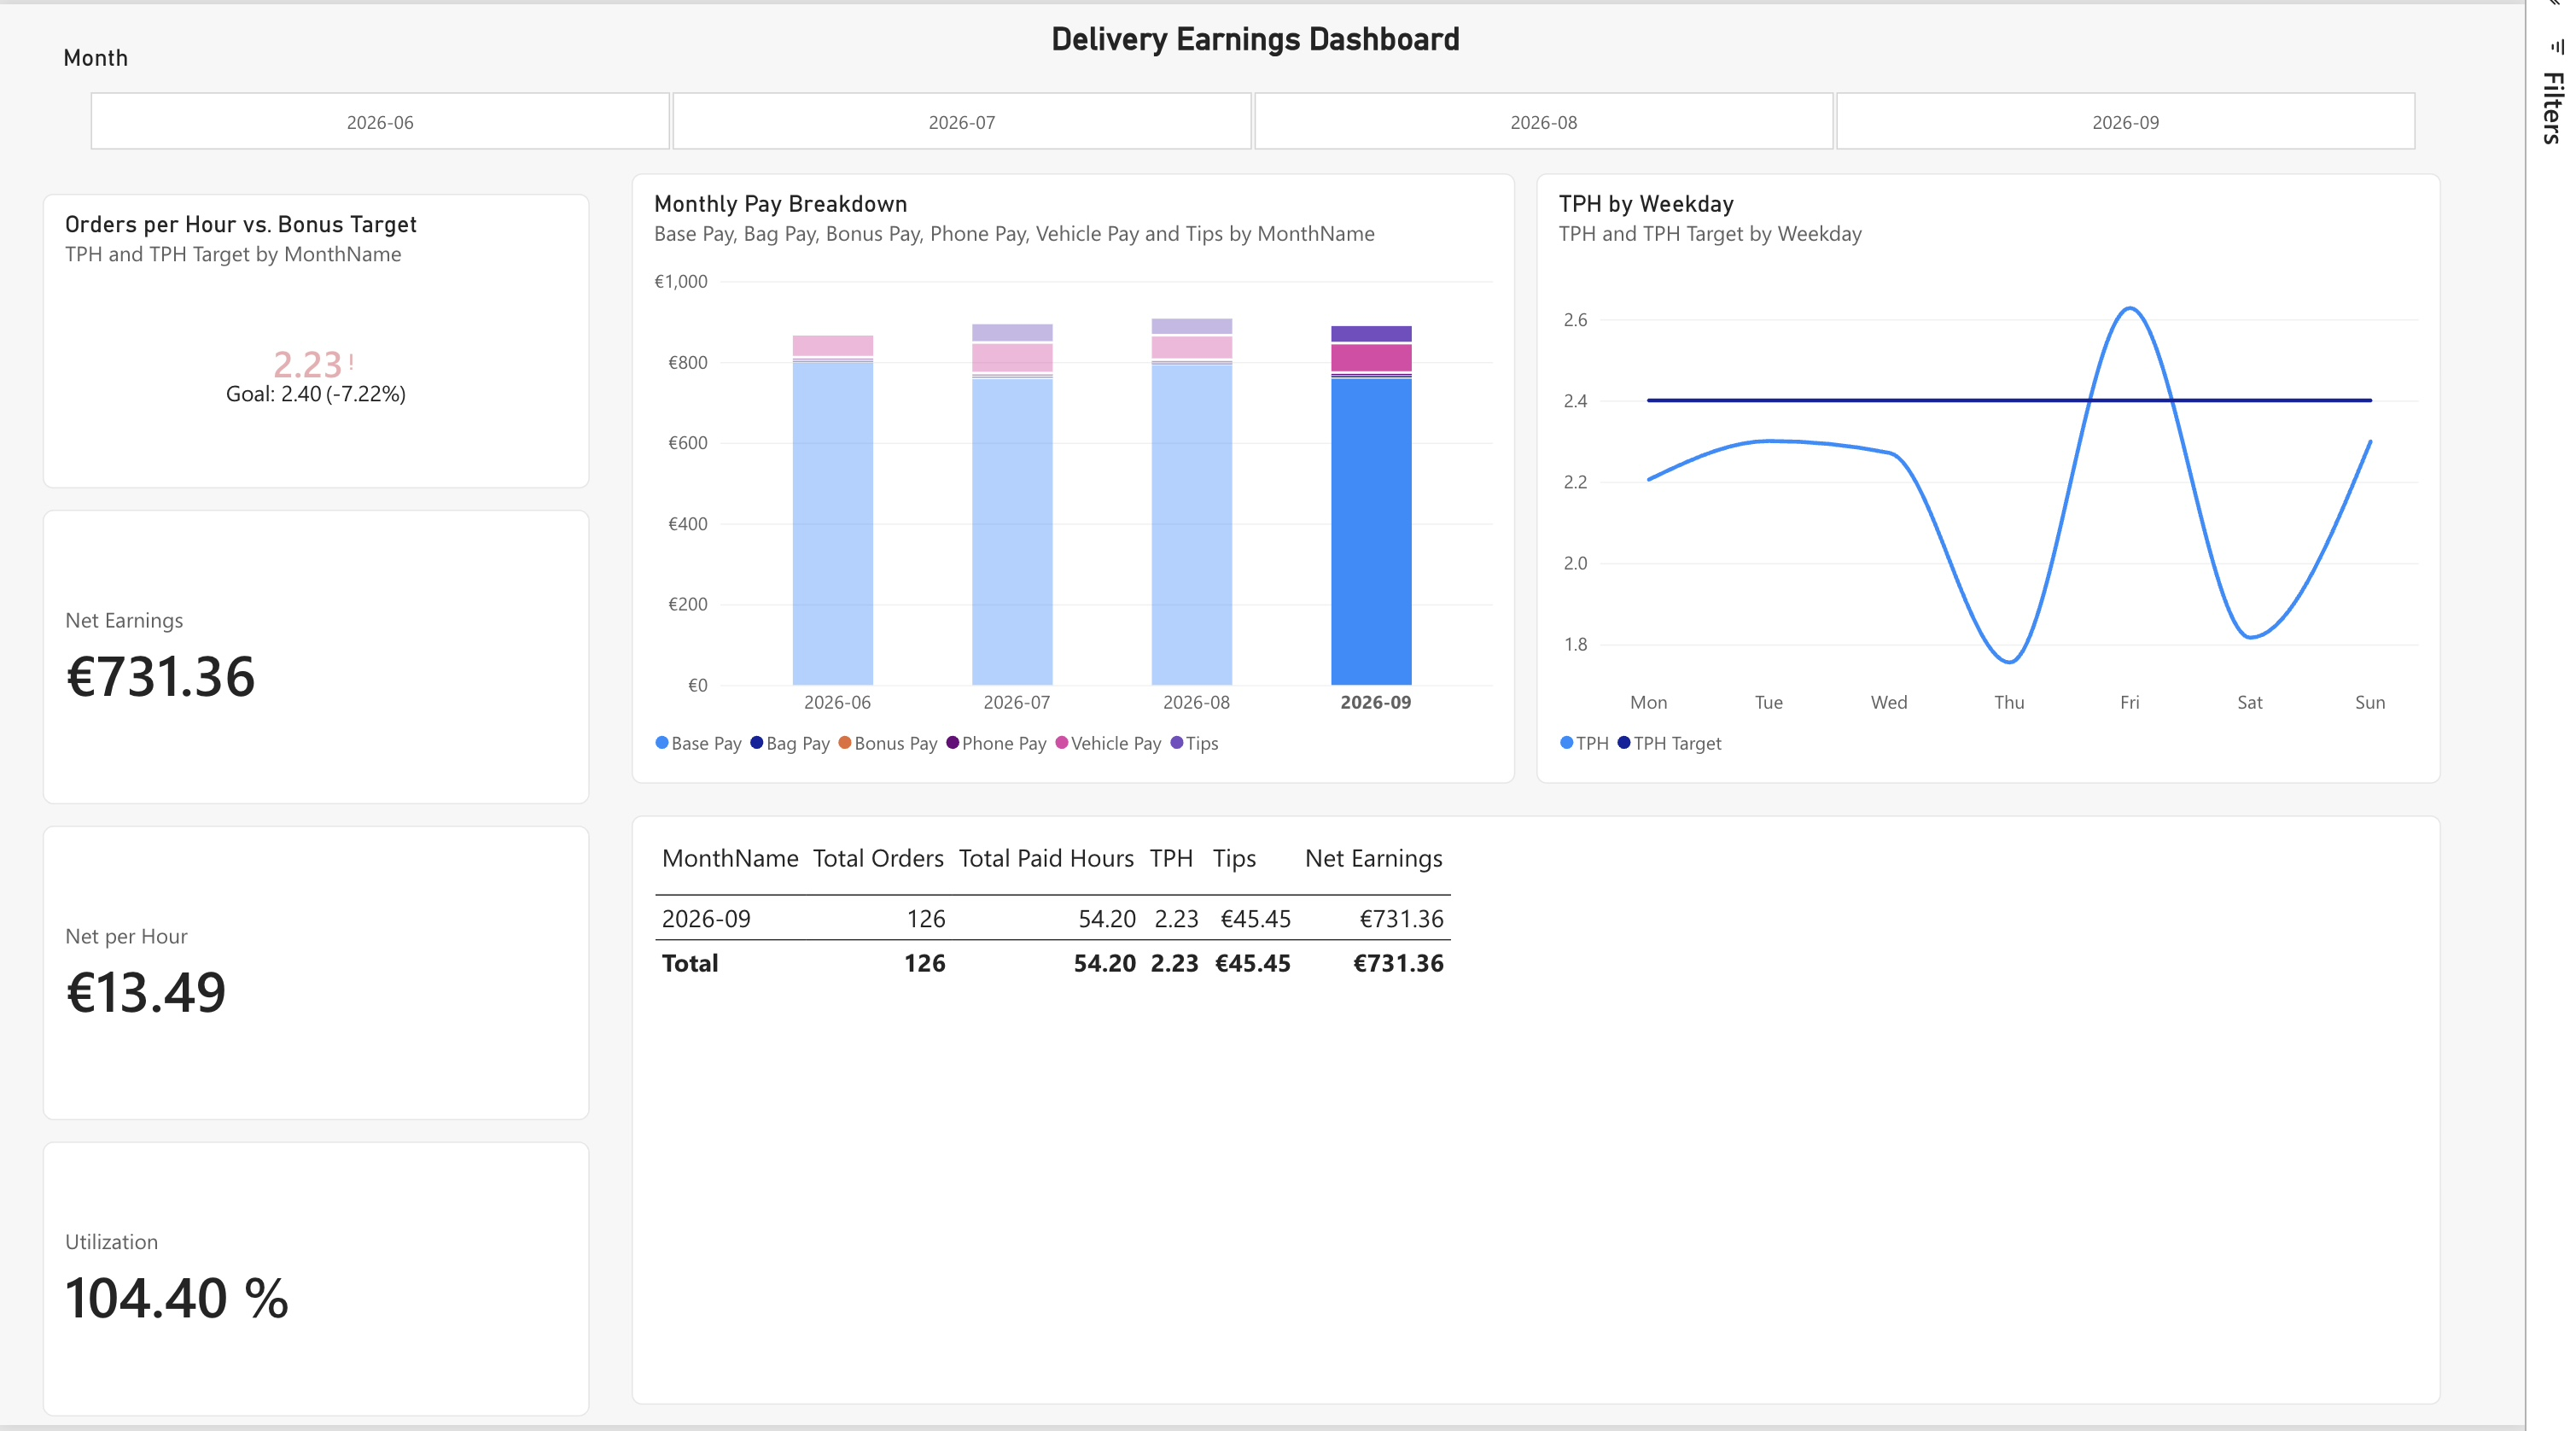

What the dashboard file says about the page in this screenshot:
{"tool":"powerbi","page":{"name":"Page 1","canvas":[1920,1080],"ordinal":0},"visuals":[{"type":"cardVisual","fields":{"Data":["Sessions.Net Earnings"]},"box":[32,384,416,224],"z":0},{"type":"kpi","title":"Orders per Hour vs. Bonus Target","fields":{"Goal":["Sessions.TPH Target"],"Indicator":["Sessions.TPH"],"TrendLine":["Calendar.MonthName"]},"box":[32,144,416,224],"z":1000},{"type":"cardVisual","fields":{"Data":["Sessions.Utilization"]},"box":[32,864,416,209],"z":2000},{"type":"cardVisual","fields":{"Data":["Sessions.Net per Hour"]},"box":[32,624,416,224],"z":3000},{"type":"slicer","title":"Month","fields":{"Values":["Calendar.MonthName"]},"box":[48,32,1808,80],"z":4000},{"type":"columnChart","title":"Monthly Pay Breakdown","fields":{"Category":["Calendar.MonthName"],"Y":["Sessions.Base Pay","Sessions.Bag Pay","Sessions.Bonus Pay","Sessions.Phone Pay","Sessions.Vehicle Pay","Sessions.Tips"]},"box":[480,128,672,464],"z":5000},{"type":"lineChart","title":"TPH by Weekday","fields":{"Category":["Calendar.Weekday"],"Y":["Sessions.TPH","Sessions.TPH Target"]},"box":[1168,128,688,464],"z":5001},{"type":"tableEx","fields":{"Values":["Calendar.MonthName","Sessions.Total Orders","Sessions.Total Paid Hours","Sessions.TPH","Sessions.Tips","Sessions.Net Earnings"]},"box":[480,616,1376,448],"z":5002},{"type":"textbox","title":"Delivery Earnings Dashboard","box":[800,16,480,64],"z":5003}]}

Visuals, with their boxes in screenshot pixels (x1, y1, x2, y2), scaled from the page's 1920x1080 canvas onto the 2576x1431 screenshot:
cardVisual - Sessions.Net Earnings: select_region(43, 509, 601, 806)
"Orders per Hour vs. Bonus Target" kpi: select_region(43, 190, 601, 488)
cardVisual - Sessions.Utilization: select_region(43, 1145, 601, 1422)
cardVisual - Sessions.Net per Hour: select_region(43, 826, 601, 1124)
"Month" slicer: select_region(64, 43, 2490, 149)
"Monthly Pay Breakdown" columnChart: select_region(644, 170, 1546, 785)
"TPH by Weekday" lineChart: select_region(1567, 170, 2490, 785)
tableEx - Calendar.MonthName x Sessions.Total Orders: select_region(644, 816, 2490, 1410)
"Delivery Earnings Dashboard" textbox: select_region(1074, 21, 1717, 106)
